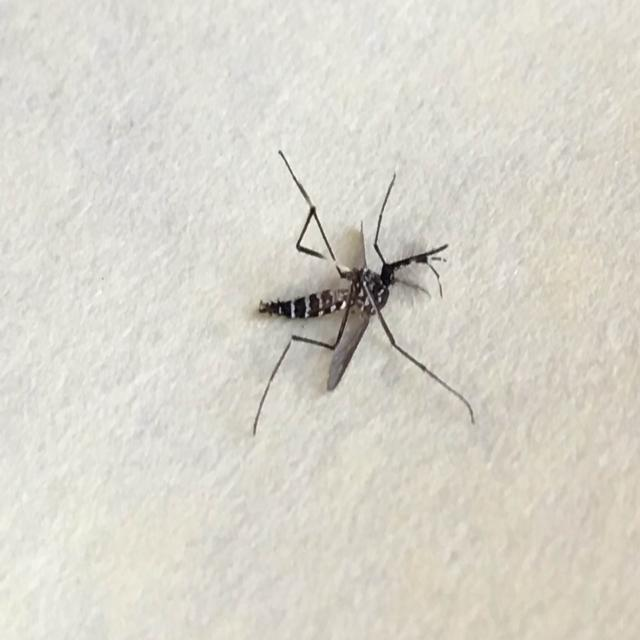albopictus: (239, 139, 472, 434)
